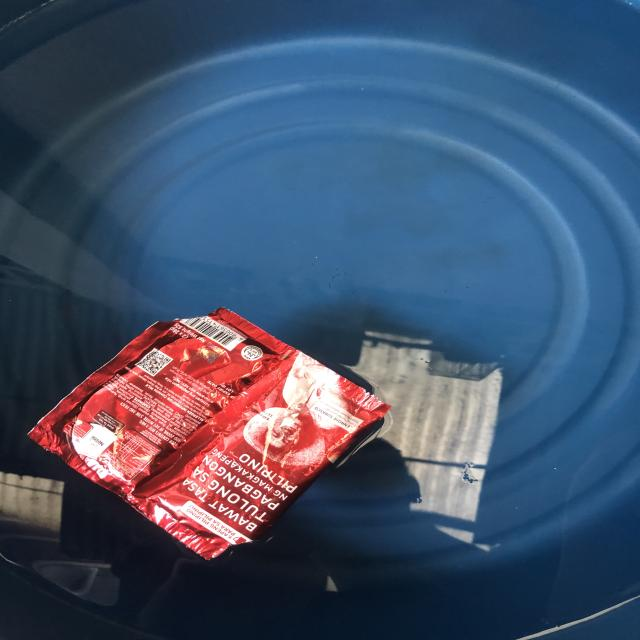Plastic Wrapper: (0, 298, 406, 577)
